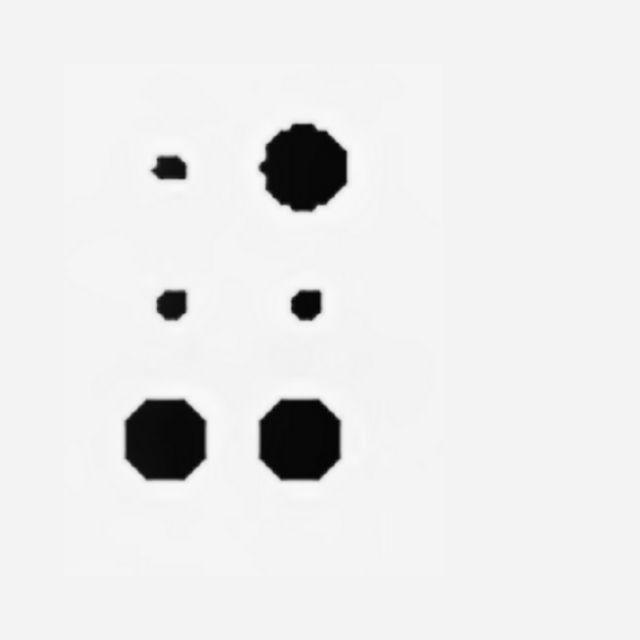ingay: (124, 120, 347, 483)
